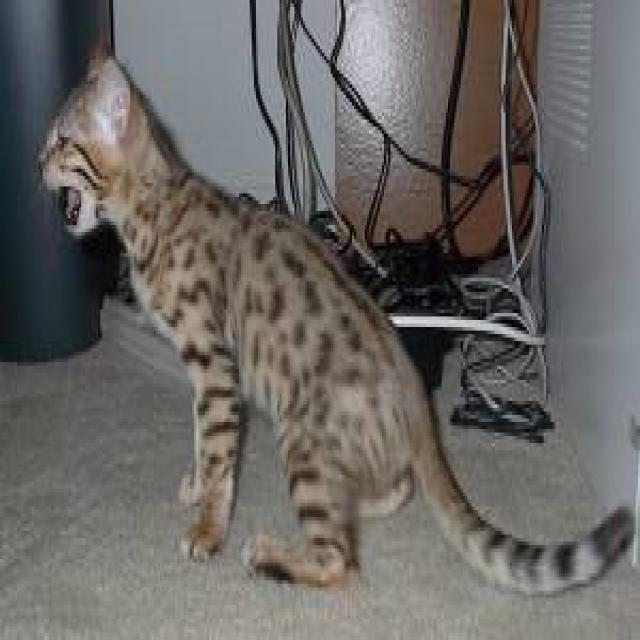Bengal: (34, 35, 147, 232)
